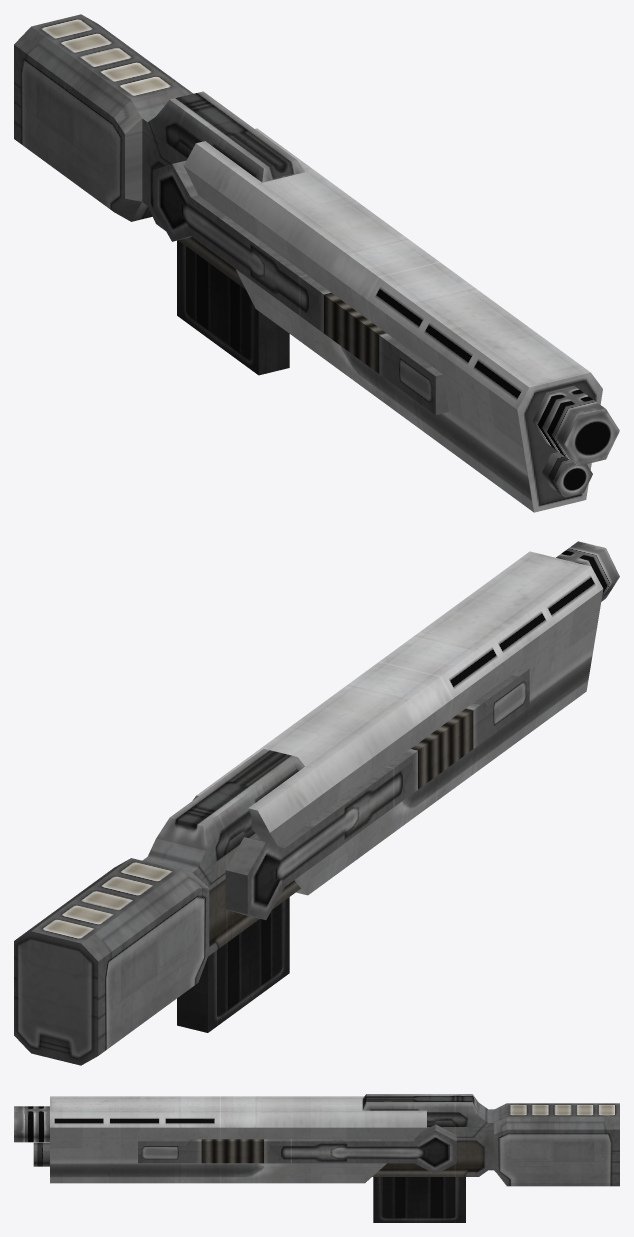
The model's file is weapon_shotgun_3.fbx.
3 renders of one model, top to bottom at view 1: azimuth 30°, elevation 25°; view 2: azimuth 150°, elevation 25°; view 3: azimuth 270°, elevation 25°, orthographic. The views are drawn at different scales.
Parts seen in each view (by area): view 1: shotgun3; view 2: shotgun3; view 3: shotgun3.
Boxes of the visible parts, x1,y1,x2,y2 form: shotgun3: (14, 14, 619, 512); shotgun3: (14, 541, 619, 1065); shotgun3: (14, 1094, 619, 1222).
Bounding box in the file's own units: 0.3768 × 0.8106 × 3.72.
Materials: 1 (1 with a texture image).
